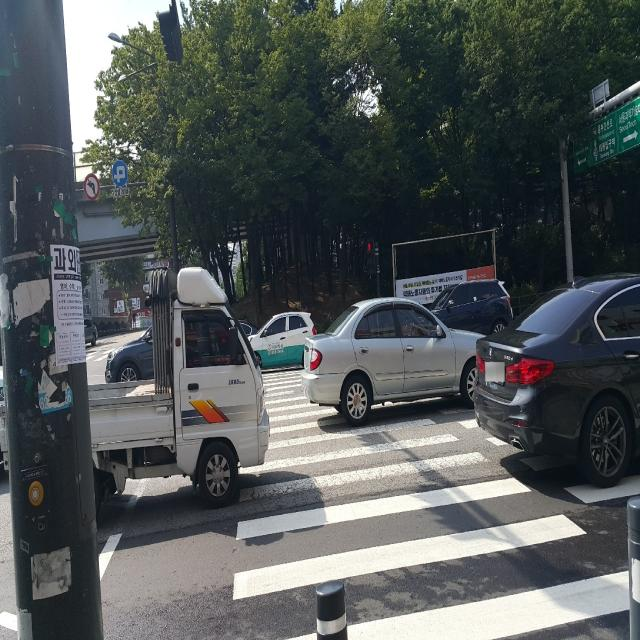빨간불: (364, 233, 376, 276)
횡단보도: (230, 363, 640, 640)
